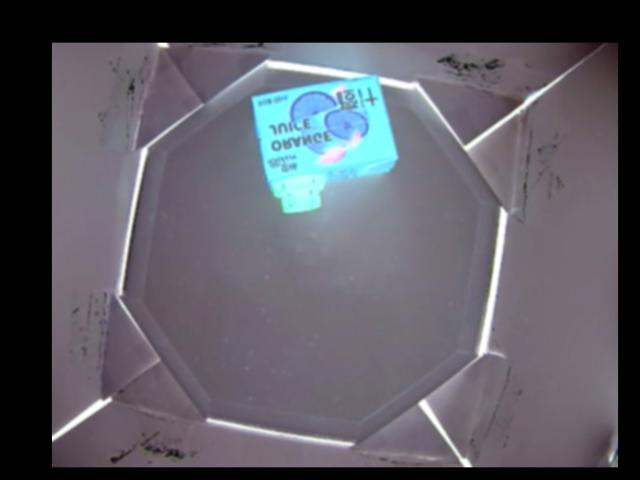Bottle: (250, 72, 396, 215)
